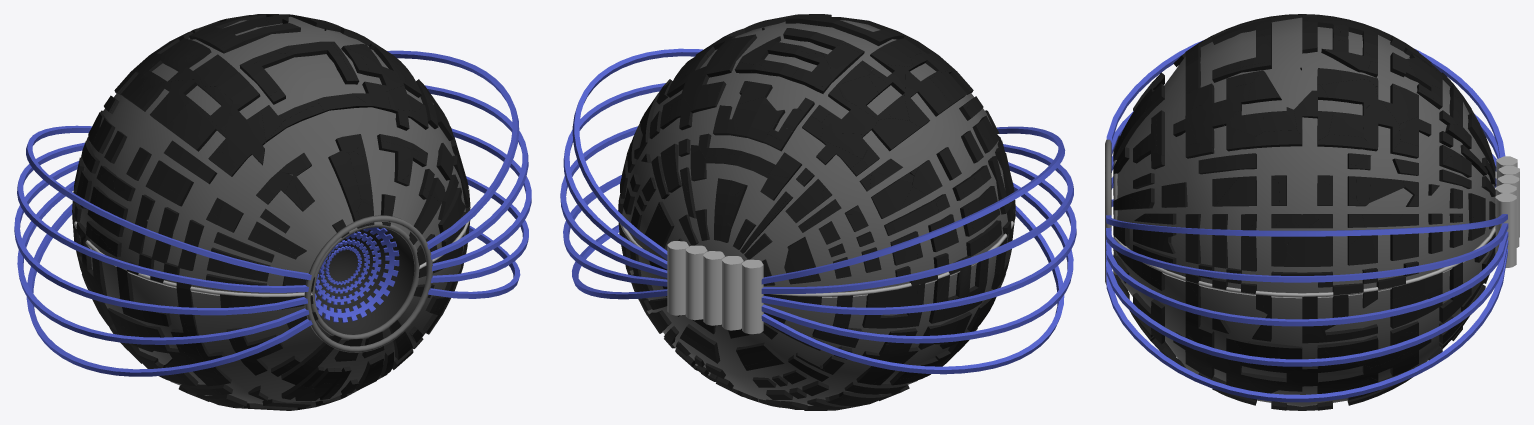
Rendered from Deathstar 80%.fbx.
3 renders of one model, left to right at view 1: azimuth 30°, elevation 25°; view 2: azimuth 150°, elevation 25°; view 3: azimuth 270°, elevation 25°, orthographic.
Parts seen in each view (by area): view 1: pSphere28, pCube11, pSphere8, pCylinder17, pTorus3, pSphere29_cell.094, pTorus1, pSphere29_cell.297, pSphere29_cell.760, pSphere29_cell.599, pSphere29_cell.674, pSphere29_cell.091 (+31 smaller); view 2: pSphere28, pCube11, pCylinder19, pSphere29_cell.297, pSphere29_cell.417, pSphere29_cell.136, pSphere29_cell.226, pSphere29_cell.314, pSphere29_cell.574, pSphere29_cell.135, pSphere29_cell.038, pSphere29_cell.730 (+29 smaller); view 3: pSphere28, pCube11, pCylinder19, pTorus2, pSphere29_cell.018, pSphere29_cell.096, pSphere29_cell.670, pSphere29_cell.302, pSphere29_cell.236, pSphere29_cell.194, pSphere29_cell.327, pSphere29_cell.024 (+56 smaller).
Part boxes in pixels (x1,y1,x2,y2): pSphere28: (78,16,465,404); pCube11: (14,50,531,376); pSphere8: (315,227,414,334); pCylinder17: (314,227,399,322); pTorus3: (304,215,432,352); pSphere29_cell.094: (223,101,265,167); pTorus1: (311,221,419,340); pSphere29_cell.297: (135,79,203,128); pSphere29_cell.760: (167,102,224,150); pSphere29_cell.599: (141,238,199,307); pSphere29_cell.674: (328,150,361,213); pSphere29_cell.091: (285,41,354,84); pSphere28: (622,20,1008,405); pCube11: (560,48,1076,374); pCylinder19: (667,241,763,334); pSphere29_cell.297: (904,65,952,128); pSphere29_cell.417: (735,97,776,142); pSphere29_cell.136: (822,99,877,135); pSphere29_cell.226: (838,75,890,119); pSphere29_cell.314: (866,266,917,307); pSphere29_cell.574: (871,179,912,218); pSphere29_cell.135: (872,118,919,151); pSphere29_cell.038: (956,239,984,298); pSphere29_cell.730: (791,53,835,89); pSphere28: (1117,17,1495,406); pCube11: (1106,40,1508,402); pCylinder19: (1495,156,1519,267); pTorus2: (1113,186,1495,298); pSphere29_cell.018: (1362,97,1400,152); pSphere29_cell.096: (1320,79,1377,112); pSphere29_cell.670: (1318,278,1377,330); pSphere29_cell.302: (1294,84,1333,142); pSphere29_cell.236: (1317,353,1370,393); pSphere29_cell.194: (1204,83,1251,125); pSphere29_cell.327: (1212,237,1249,289); pSphere29_cell.024: (1185,104,1224,148).
Bounding box in the file's own units: 1457 × 1082 × 1131.
